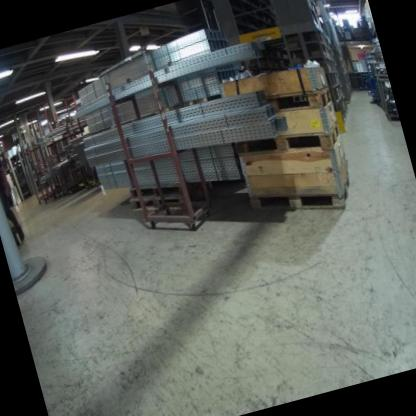pallet: (248, 167, 356, 233), (233, 111, 344, 175), (263, 78, 335, 123), (129, 182, 195, 218), (129, 172, 194, 205)
stillage: (369, 76, 400, 126), (368, 50, 388, 82)
